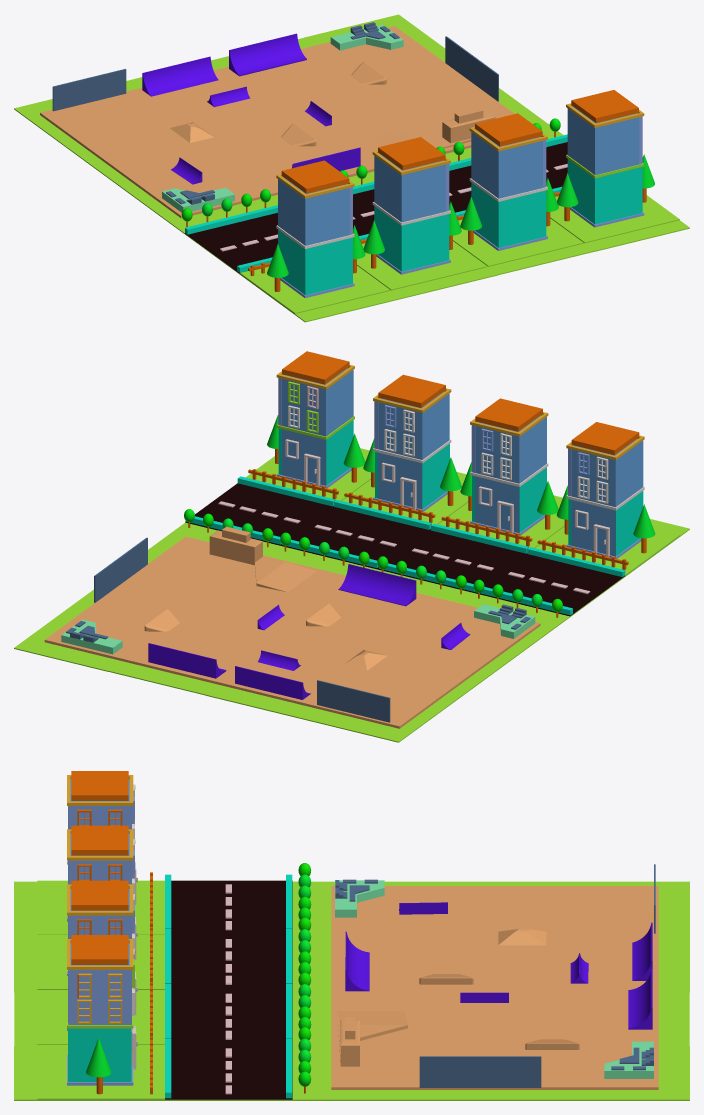
Rendered from skateboard arena4.fbx.
The picture shows the model from 3 angles, top to bottom: view 1: azimuth 30°, elevation 25°; view 2: azimuth 150°, elevation 25°; view 3: azimuth 270°, elevation 25°; orthographic projection. The views are drawn at different scales.
Parts seen in each view (by area): view 1: Cube.241; view 2: Cube.241; view 3: Cube.241.
Part boxes in pixels (box(x1,y1,x2,y2)): Cube.241: box(14, 14, 689, 322); Cube.241: box(14, 351, 689, 742); Cube.241: box(14, 771, 689, 1100).
Bounding box in the file's own units: 16202 × 4401 × 21208.
